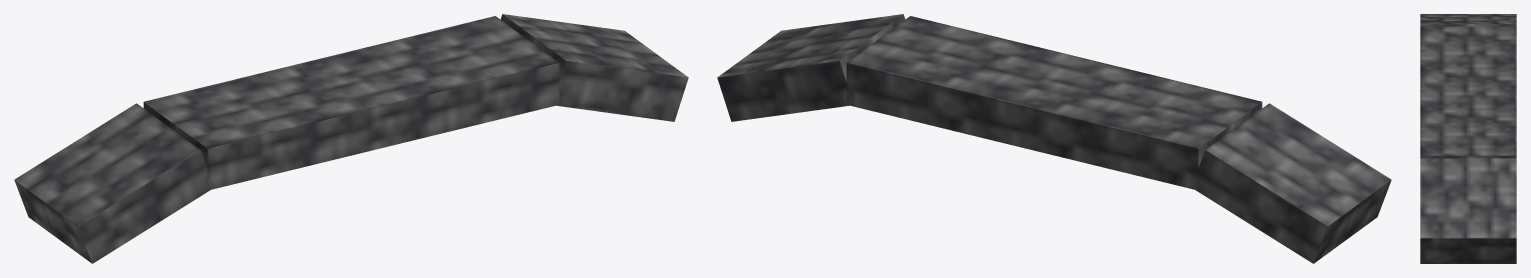
Rendered from cobblestone_cover.obj.
3 renders of one model, left to right at view 1: azimuth 30°, elevation 25°; view 2: azimuth 150°, elevation 25°; view 3: azimuth 270°, elevation 25°, orthographic. The views are drawn at different scales.
Visible parts, largest first — view 1: cube; view 2: cube; view 3: cube.
Part boxes in pixels (x1=…): cube: x1=14, y1=14, x2=688, y2=263; cube: x1=717, y1=14, x2=1391, y2=263; cube: x1=1420, y1=14, x2=1516, y2=263.
Bounding box in the file's own units: 2.75 × 0.3771 × 0.5.
1 material, 1 textured.
